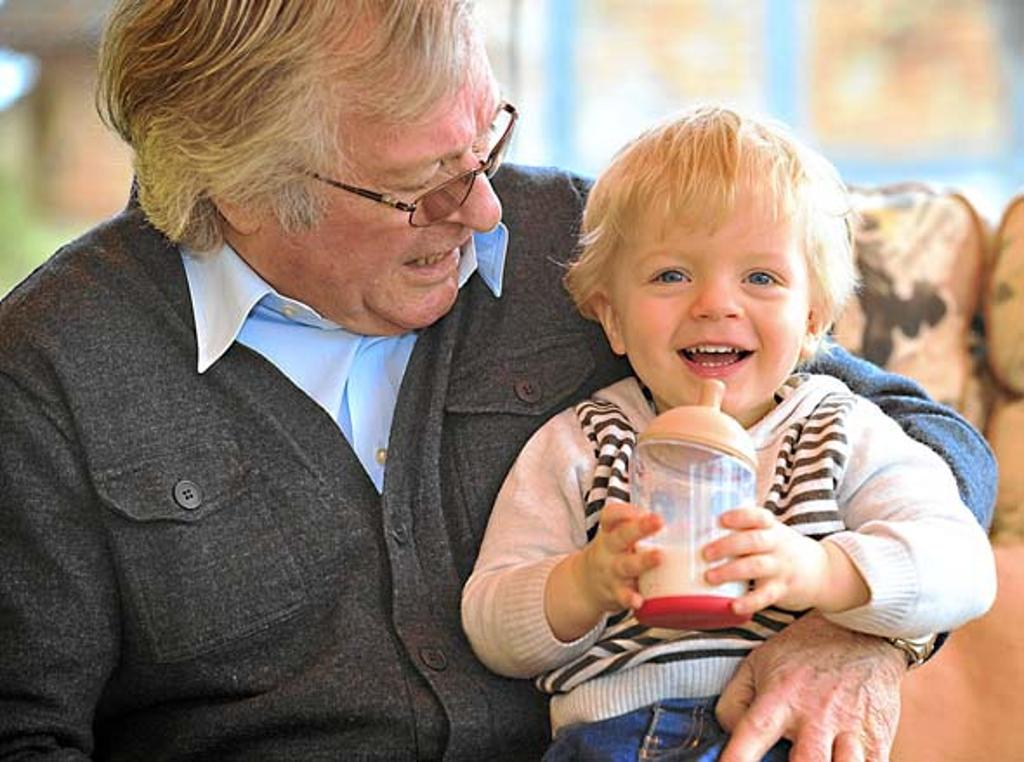face: (264, 24, 504, 332), (618, 164, 802, 404)
